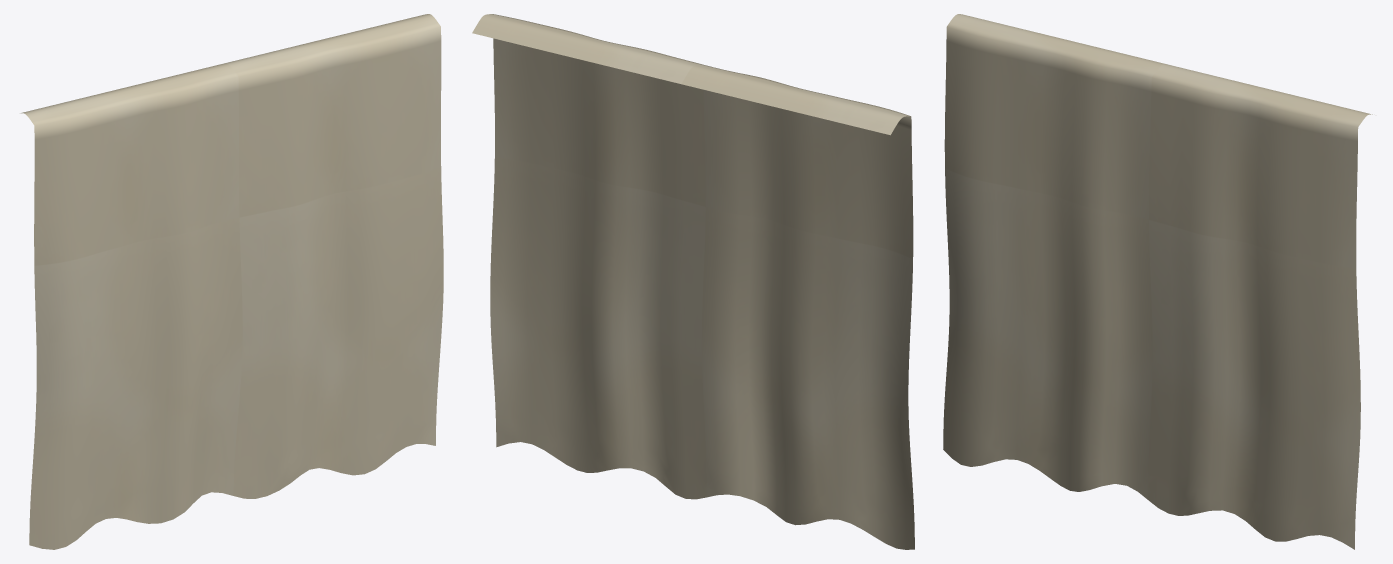
The model's file is VaiChePhuGuong_WC.glb.
3 renders of one model, left to right at view 1: azimuth 30°, elevation 25°; view 2: azimuth 150°, elevation 25°; view 3: azimuth 330°, elevation 25°, orthographic. The views are drawn at different scales.
Visible parts, largest first — view 1: VaiChePhuGuong_WC; view 2: VaiChePhuGuong_WC; view 3: VaiChePhuGuong_WC.
Boxes of the visible parts, left/top/right/bottom form: VaiChePhuGuong_WC: left=20, top=14, right=443, bottom=549; VaiChePhuGuong_WC: left=472, top=14, right=914, bottom=549; VaiChePhuGuong_WC: left=943, top=14, right=1372, bottom=549.
Size of the model in its own units: 0.4677 by 0.4663 by 0.0515.
1 material, 1 textured.
